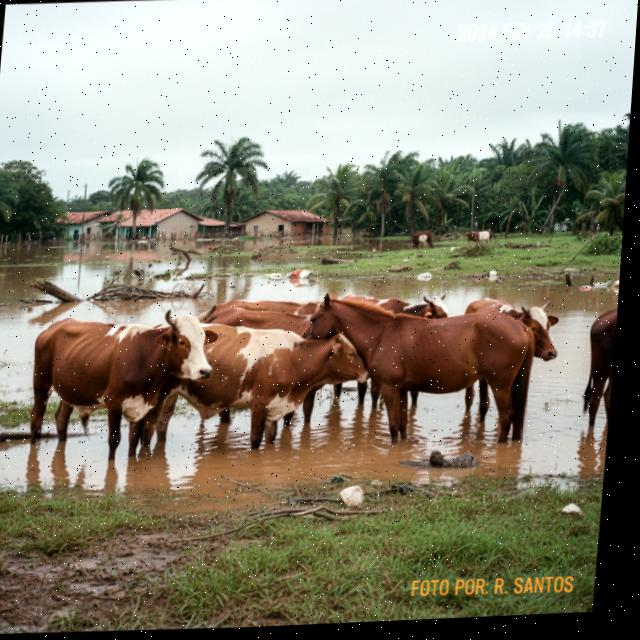cow: (19, 289, 234, 474), (133, 302, 375, 460), (325, 282, 457, 415), (457, 289, 572, 377), (194, 300, 306, 347), (215, 285, 321, 331)
horse: (296, 288, 546, 456), (575, 302, 617, 440)
